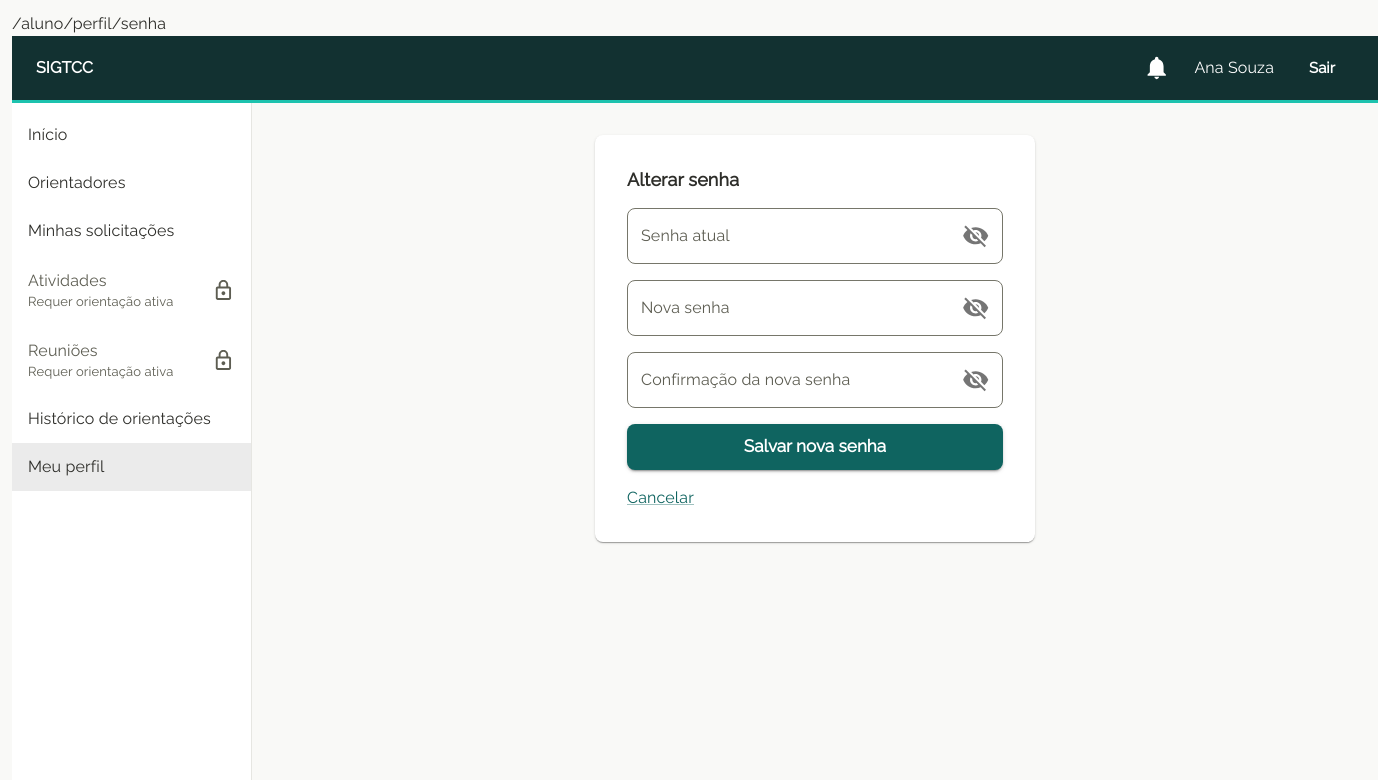
it: ChangePasswordPage: a troca › envia os três campos, guarda o novo token, limpa o formulário e avisa que os outros dispositivos foram desconectados
Check: the heading "Alterar senha" is shown, box [627,169,739,190]
Type "senha-atual-123" into the password field labelled "Senha atual" at (784, 236), box [627,208,942,264]
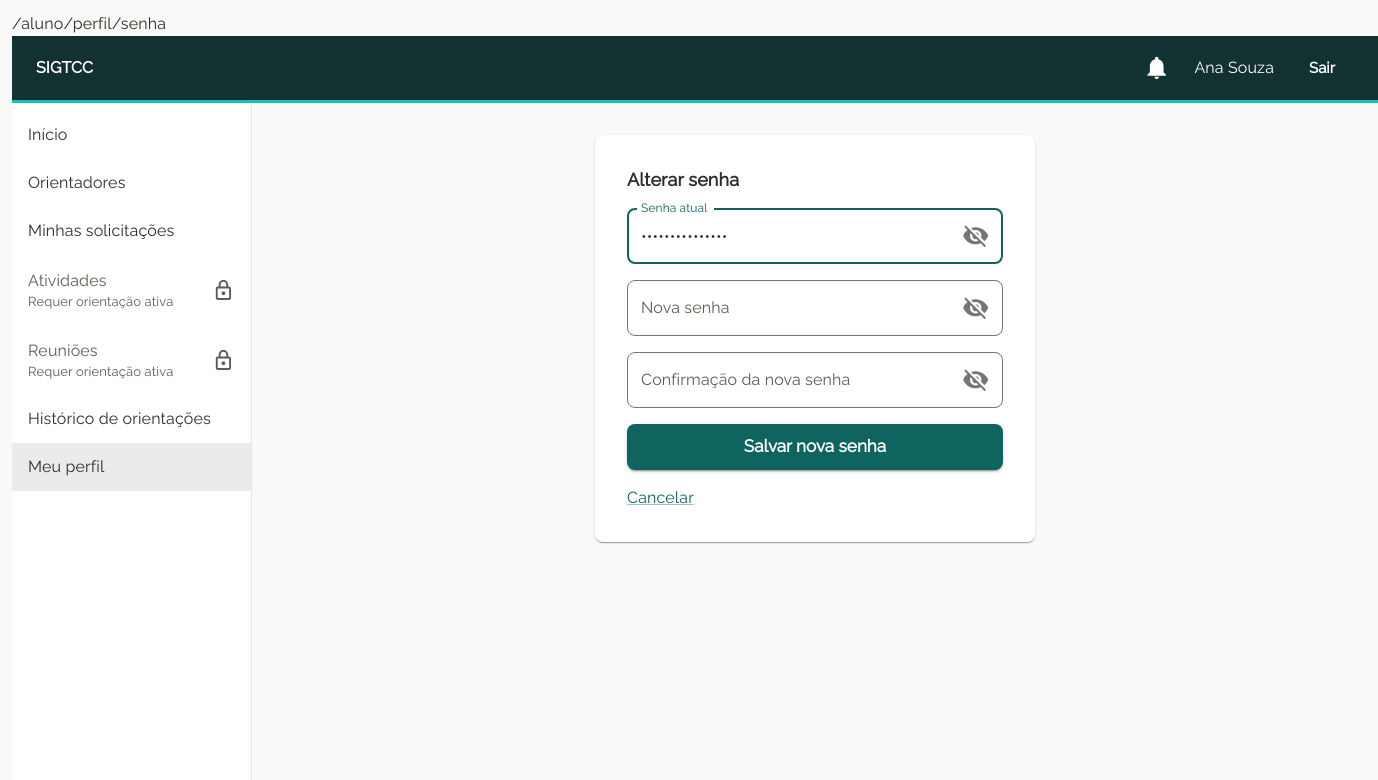
Type "NovaSenha#456" into the password field labelled "Nova senha" at (784, 308), box [627,280,942,336]
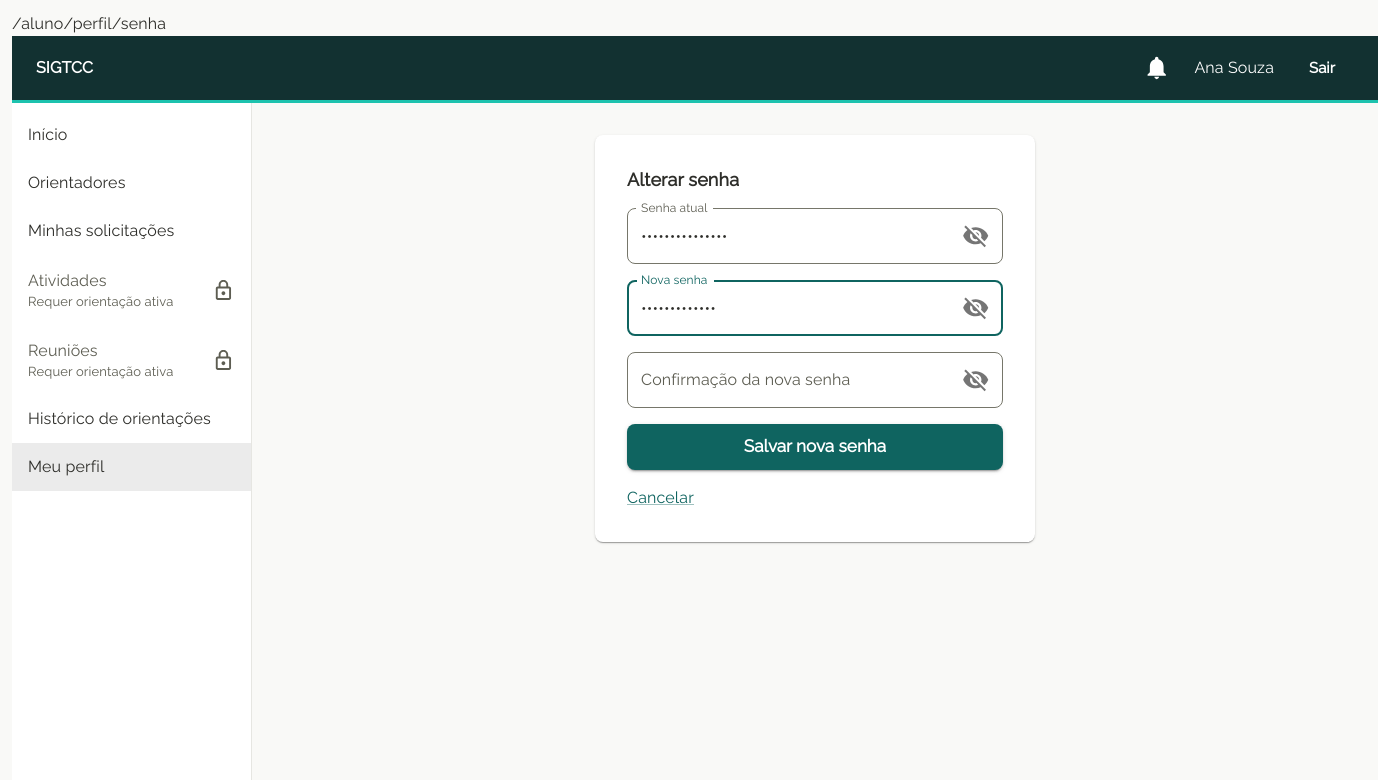
Type "NovaSenha#456" into the password field labelled "Confirmação da nova senha" at (784, 380), box [627,352,942,408]
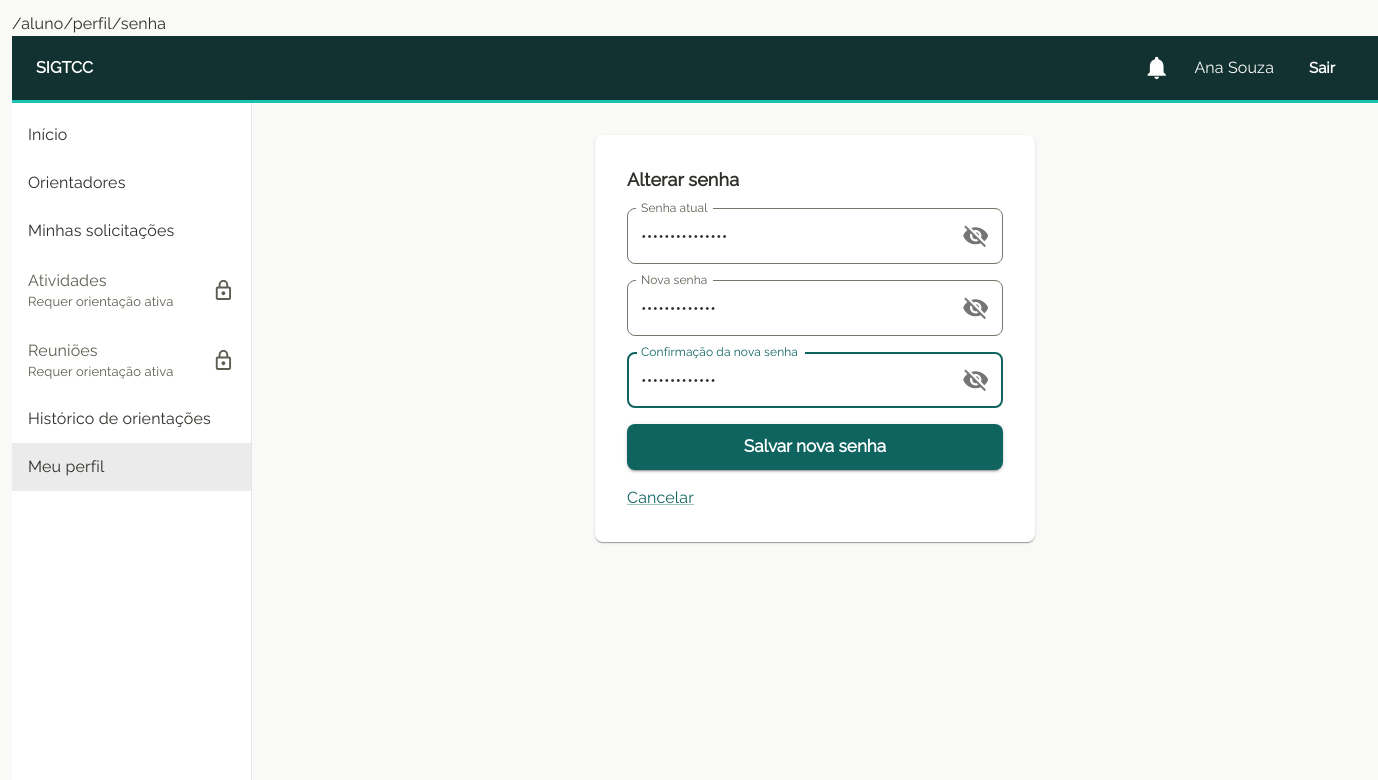
Click the button "Salvar nova senha" at (815, 447), box [627,424,1003,470]
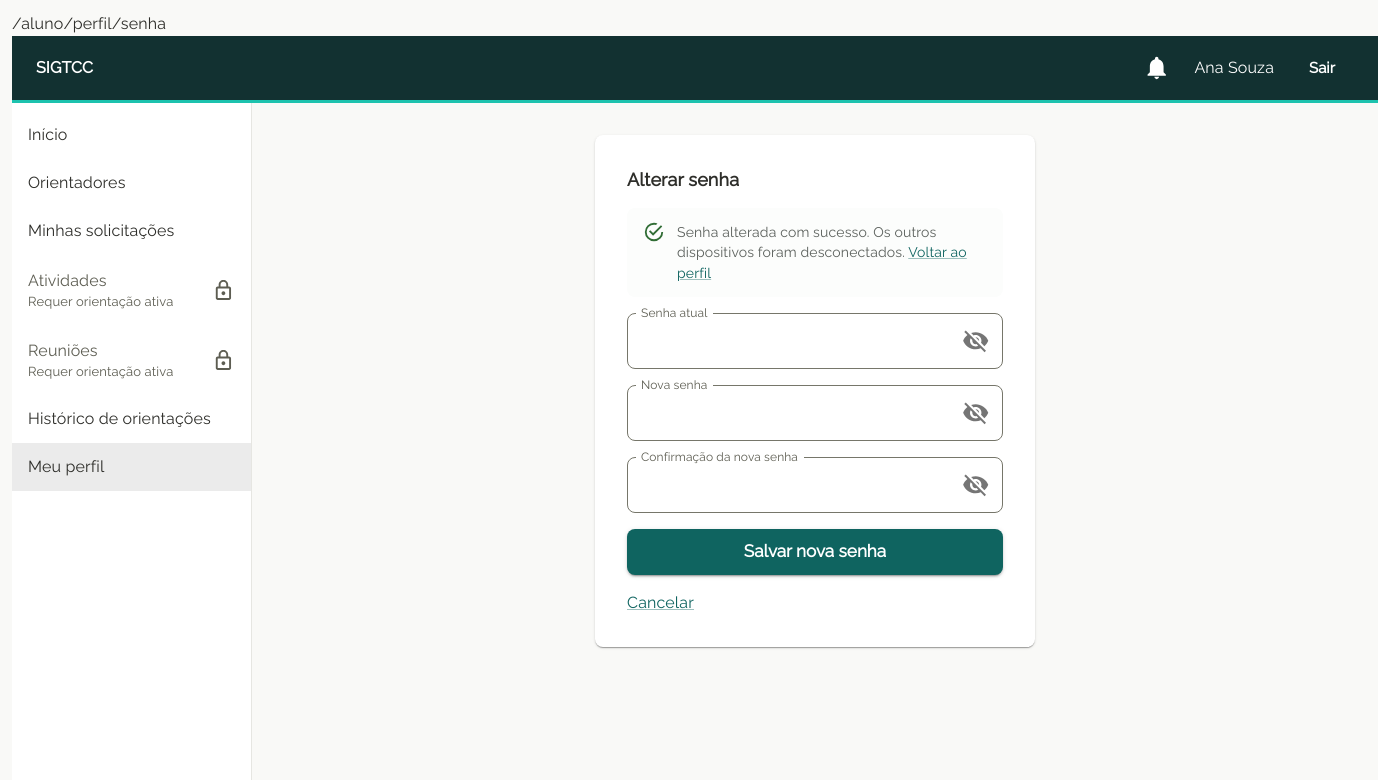
Check: the message shows "Senha alterada com sucesso.", box [677,224,936,260]
Check: the message shows "Os outros dispositivos foram desconectados.", box [677,224,936,260]
Check: the password field labelled "Senha atual" is empty, box [627,313,942,369]
